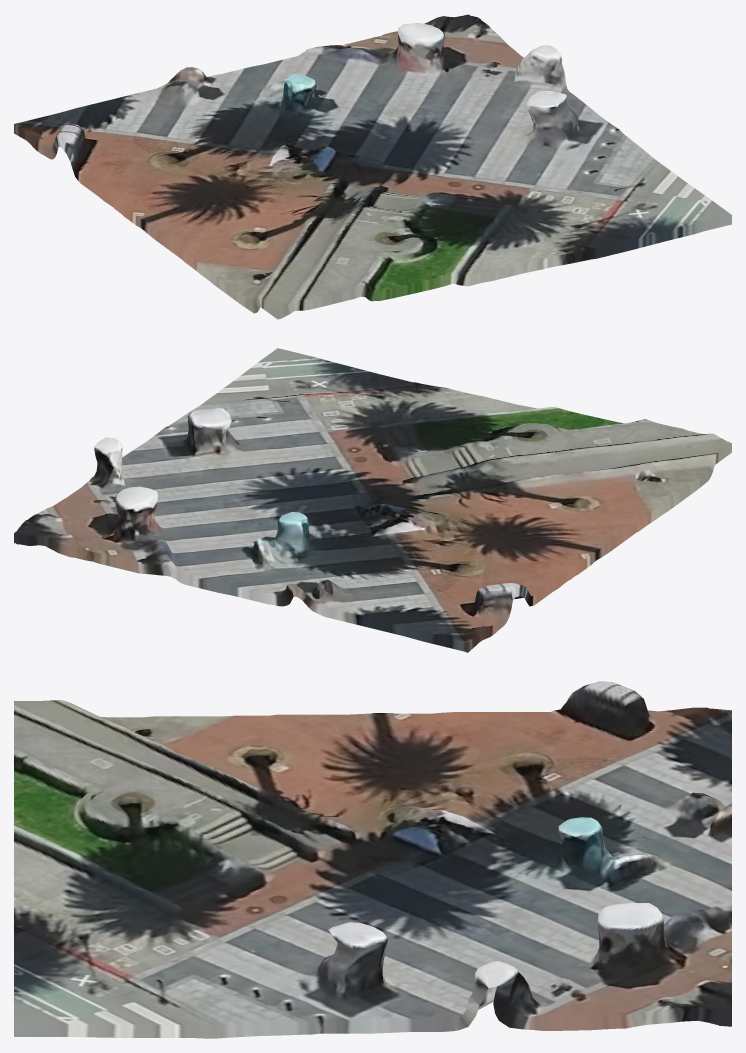
File: z20-167788-405223-h0-yup-uvflip-v3-world.glb
3 renders of one model, top to bottom at view 1: azimuth 30°, elevation 25°; view 2: azimuth 150°, elevation 25°; view 3: azimuth 270°, elevation 25°, orthographic. The views are drawn at different scales.
Size of the model in its own units: 30.16 by 3.32 by 30.32.
1 material, 1 textured.
